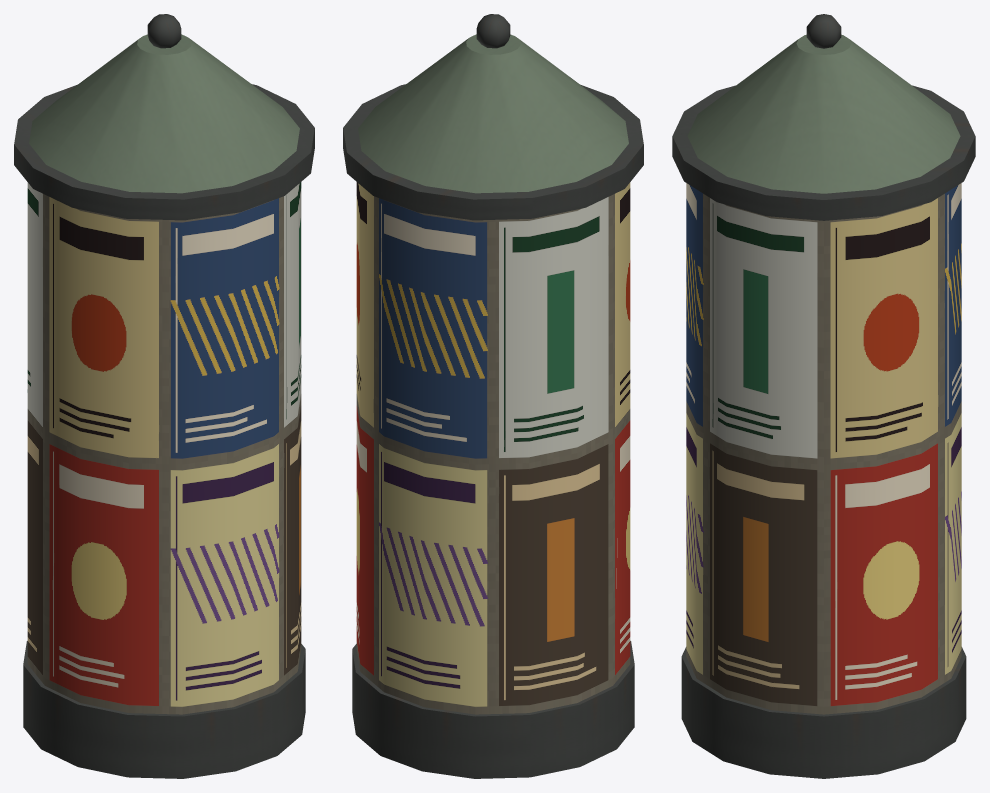
File: OB_Slup_Ogloszeniowy.fbx
The picture shows the model from 3 angles, left to right: view 1: azimuth 30°, elevation 25°; view 2: azimuth 150°, elevation 25°; view 3: azimuth 270°, elevation 25°; orthographic projection.
Parts seen in each view (by area): view 1: Plakaty, Slup; view 2: Plakaty, Slup; view 3: Plakaty, Slup.
Part boxes in pixels (x1,y1,x2,y2): Plakaty: (27, 182, 301, 714); Slup: (14, 14, 314, 778); Plakaty: (356, 182, 630, 714); Slup: (343, 14, 643, 778); Plakaty: (686, 183, 961, 714); Slup: (672, 14, 975, 778).
Size of the model in its own units: 1.32 by 3.38 by 1.32.
